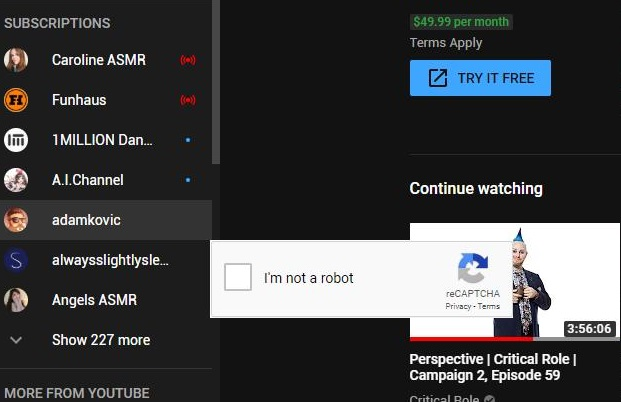captcha: (224, 262, 354, 292)
